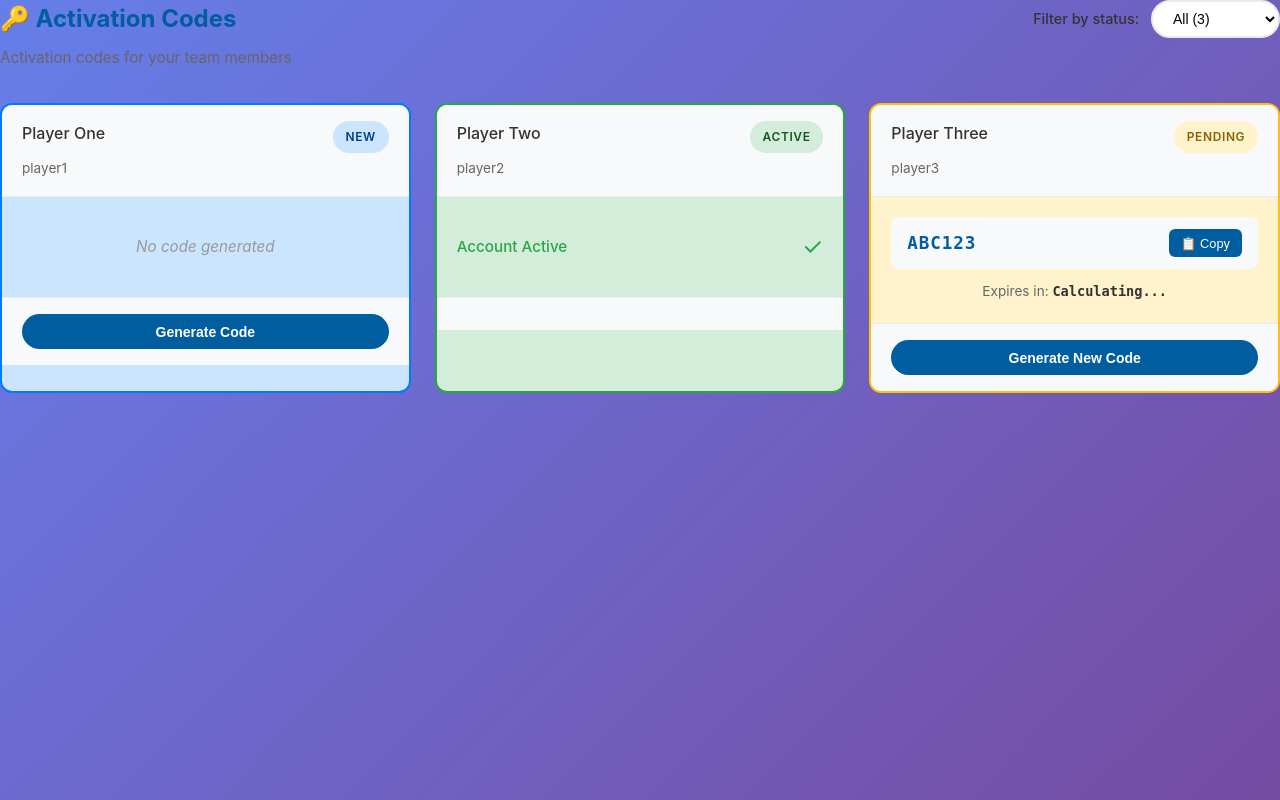
Test: ActivationCodesTab Component › Status Filtering › should filter members by ACTIVE status
Expected: the text "Player Two" is shown, [457,123,541,143]
Select "Active (1)" in the dropdown labelled "Filter by status:" at (1216, 19), box [1151,0,1279,38]
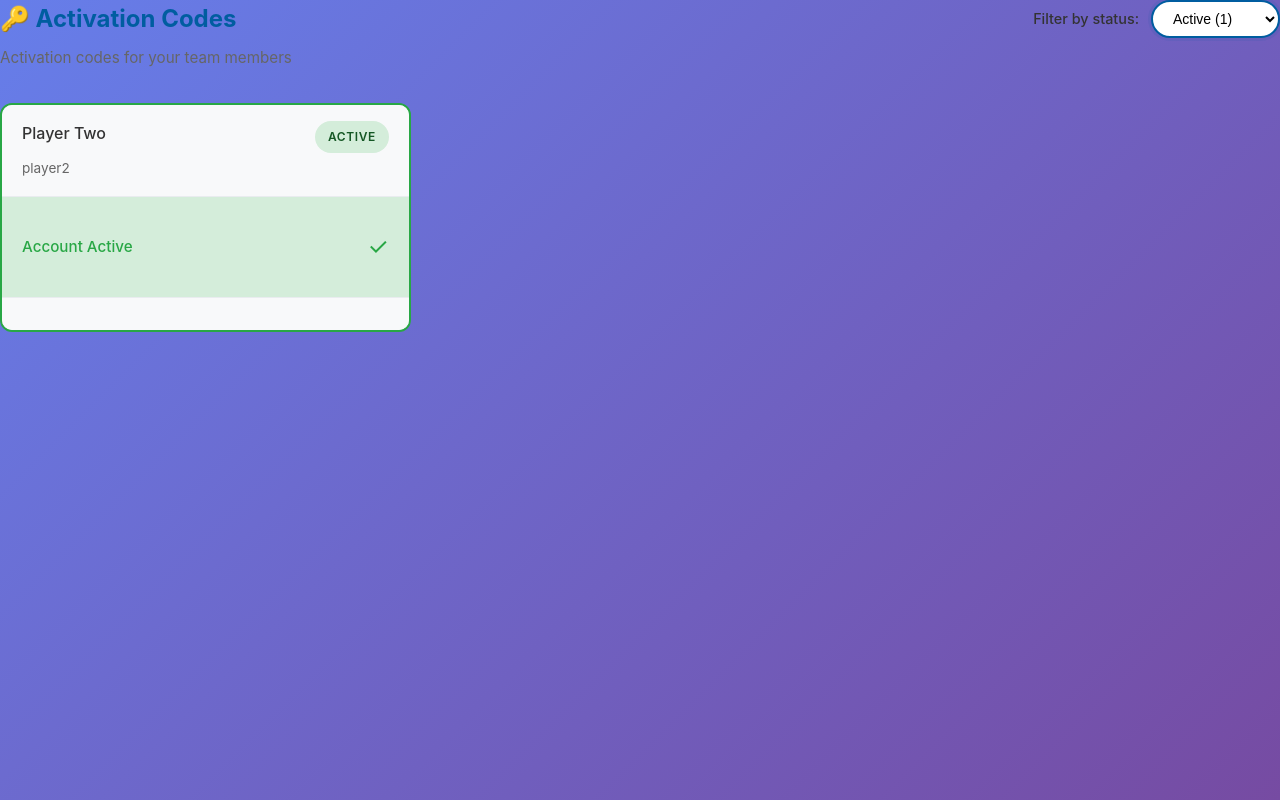
Expected: the text "Player Two" is shown, [22,123,106,143]
Expected: the text "Player One" is gone
Expected: the text "Player Three" is gone
